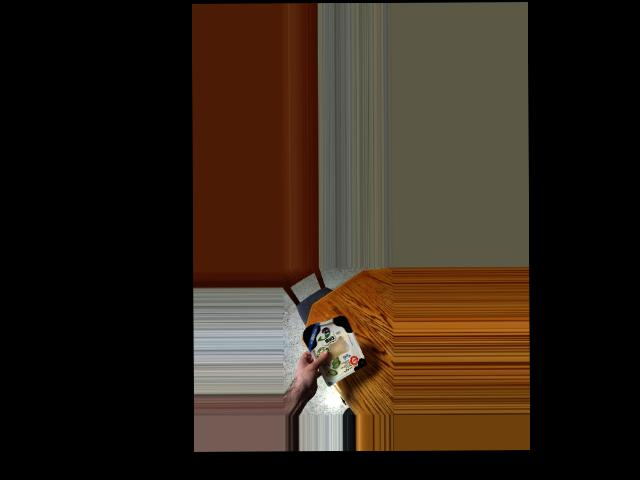cheese: (299, 315, 363, 379)
